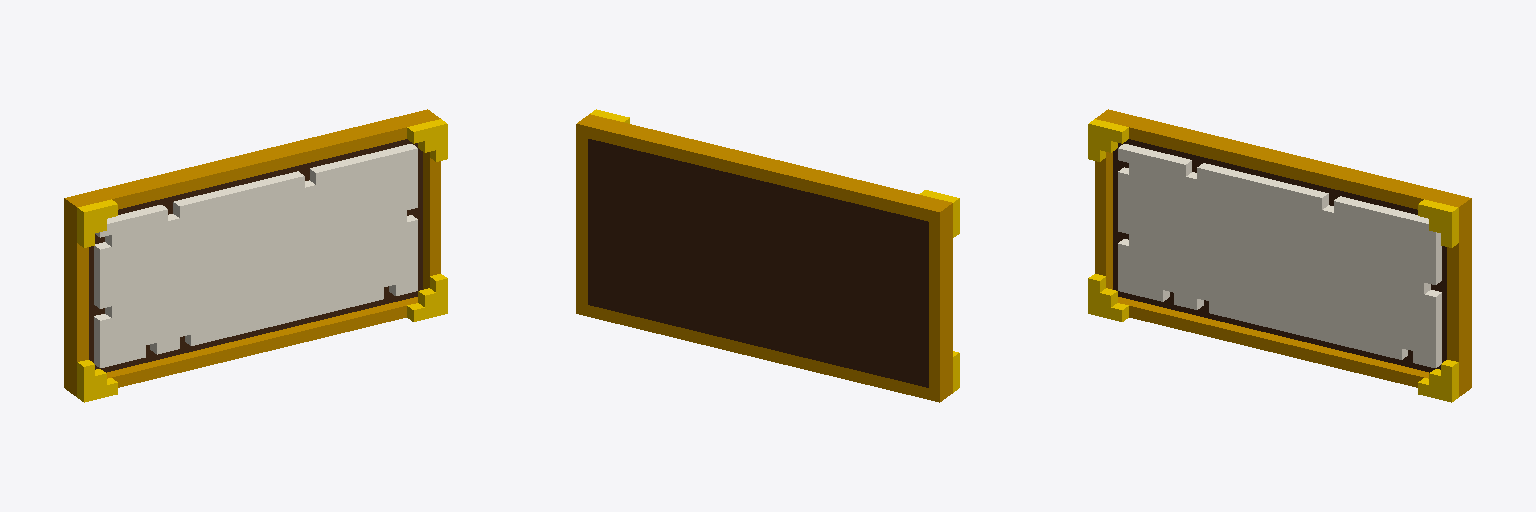
The picture shows the model from 3 angles: view 1: azimuth 30°, elevation 25°; view 2: azimuth 150°, elevation 25°; view 3: azimuth 330°, elevation 25°; orthographic projection.
Parts seen in each view (by area): view 1: object 1; view 2: object 1; view 3: object 1.
Part boxes in pixels (x1,y1,x2,y2): object 1: (64, 109, 447, 402); object 1: (576, 109, 959, 402); object 1: (1088, 109, 1471, 402).
Size of the model in its own units: 3.2 by 1.6 by 0.3.
1 materials, 1 textured.